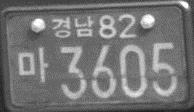0: (117, 42, 147, 98)
2: (118, 12, 137, 40)
3: (58, 44, 87, 99)
5: (150, 40, 179, 98)
6: (89, 44, 116, 99)
8: (98, 13, 117, 39)
경남_O: (51, 15, 95, 39)
마: (16, 45, 49, 84)
